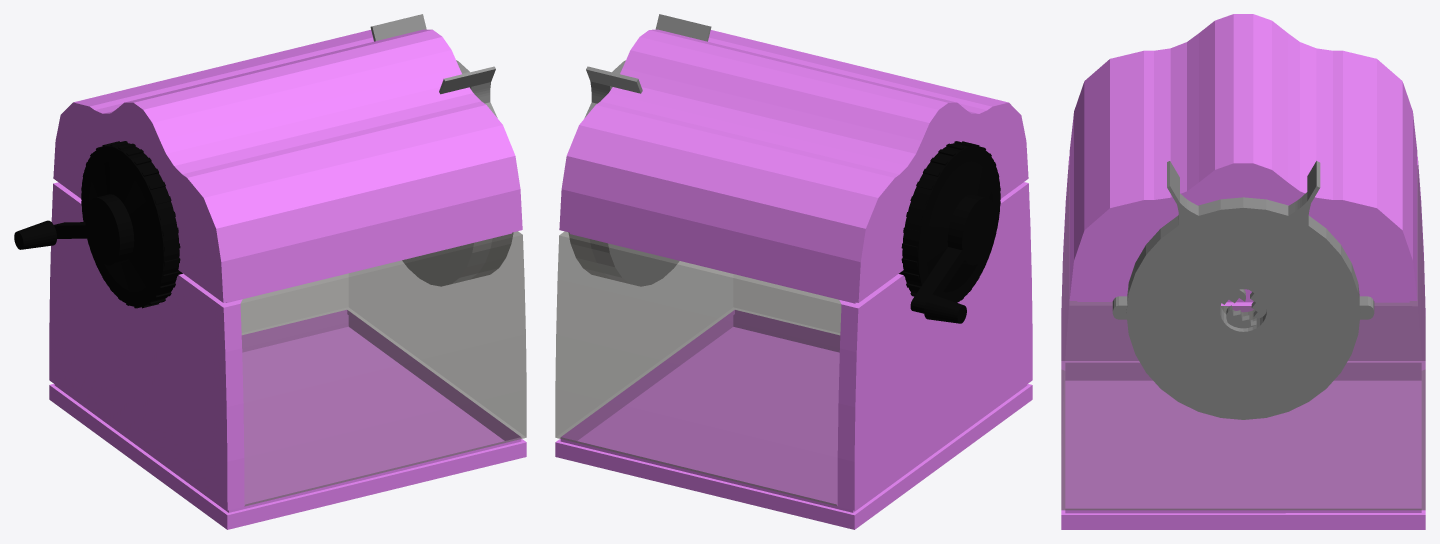
The model's file is Pencil_sharpener.fbx.
3 renders of one model, left to right at view 1: azimuth 30°, elevation 25°; view 2: azimuth 150°, elevation 25°; view 3: azimuth 270°, elevation 25°, orthographic. The views are drawn at different scales.
Parts seen in each view (by area): view 1: 큐브; view 2: 큐브; view 3: 큐브.
Boxes of the visible parts, bbox=[...] form: 큐브: bbox=[14, 14, 526, 529]; 큐브: bbox=[555, 14, 1032, 529]; 큐브: bbox=[1061, 14, 1425, 529].
Bounding box in the file's own units: 1.89 × 1.67 × 1.5.
